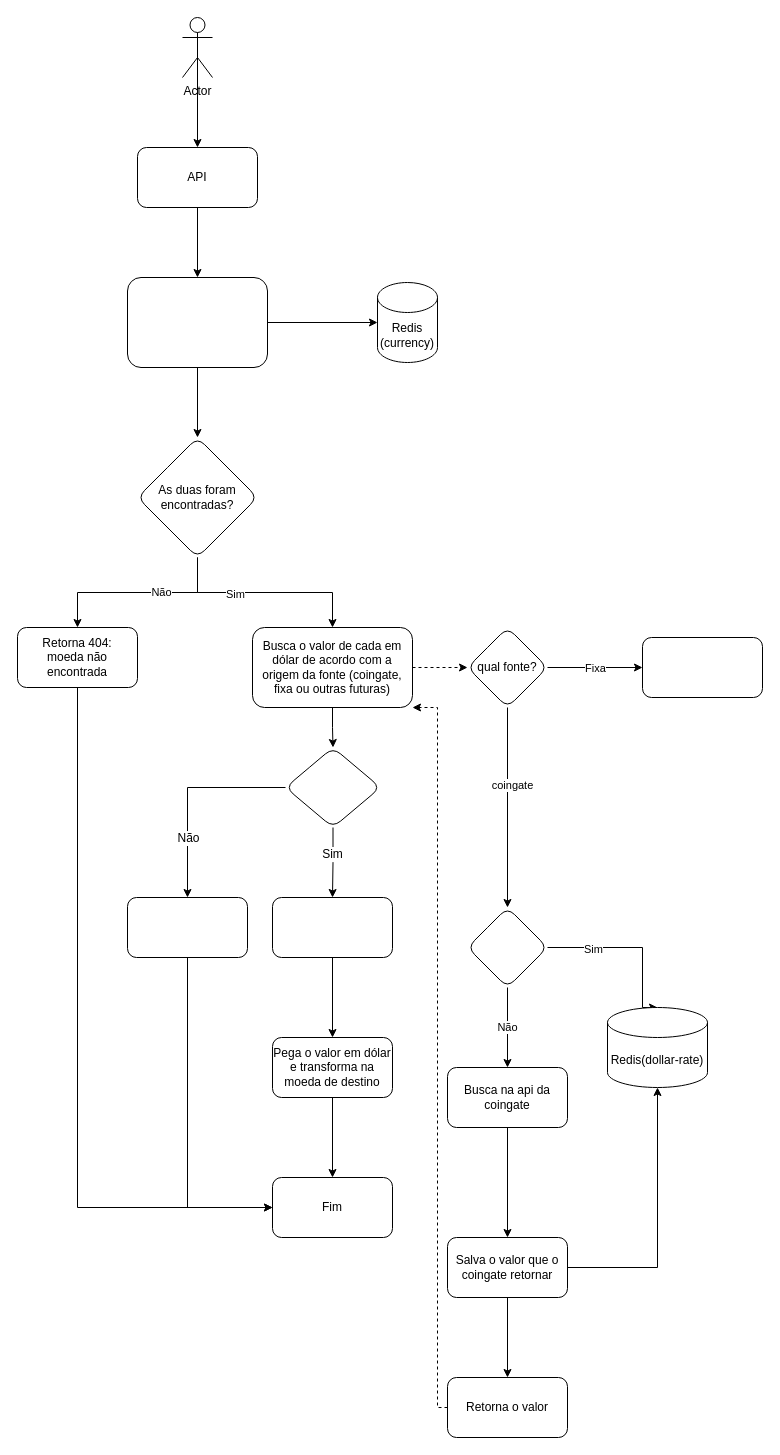
This 780x1455 diagram has some shape labels left out. The shapes that lost their labels are listed below. From the top down, each one's centre as x and y in pixels, then its label:
At (197,322): "Busca as informações sobre as duas moedas no redis".
At (702,667): "Utiliza o valor fixo salvo da moeda em dólar".
At (332,787): "Valor foi encontrado?".
At (187,927): "Retorna 404: valor em dólar não encontrada".
At (332,927): "Converte o valor recebido e a moeda de origem e converte em dólar".
At (507,947): "Tem cache?".
